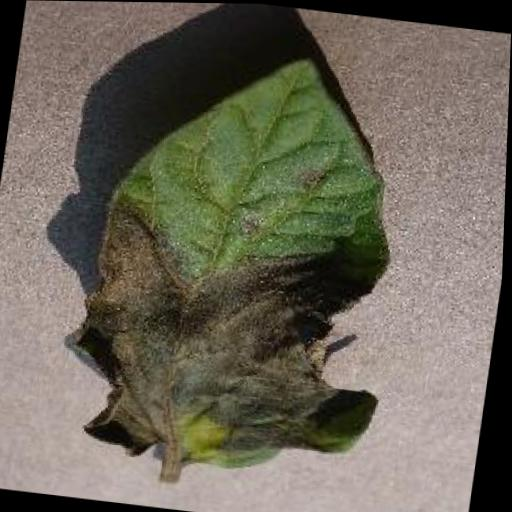Late Blight: (51, 31, 428, 482)
